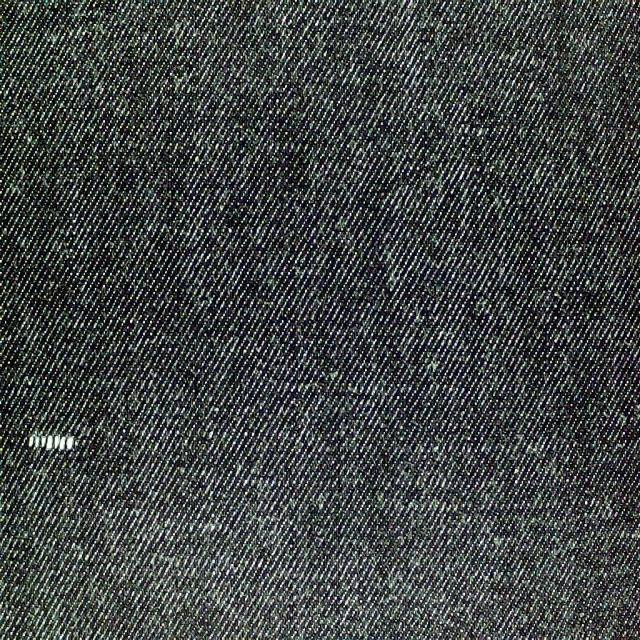pulled_or_thick_thread: (28, 434, 77, 450)
